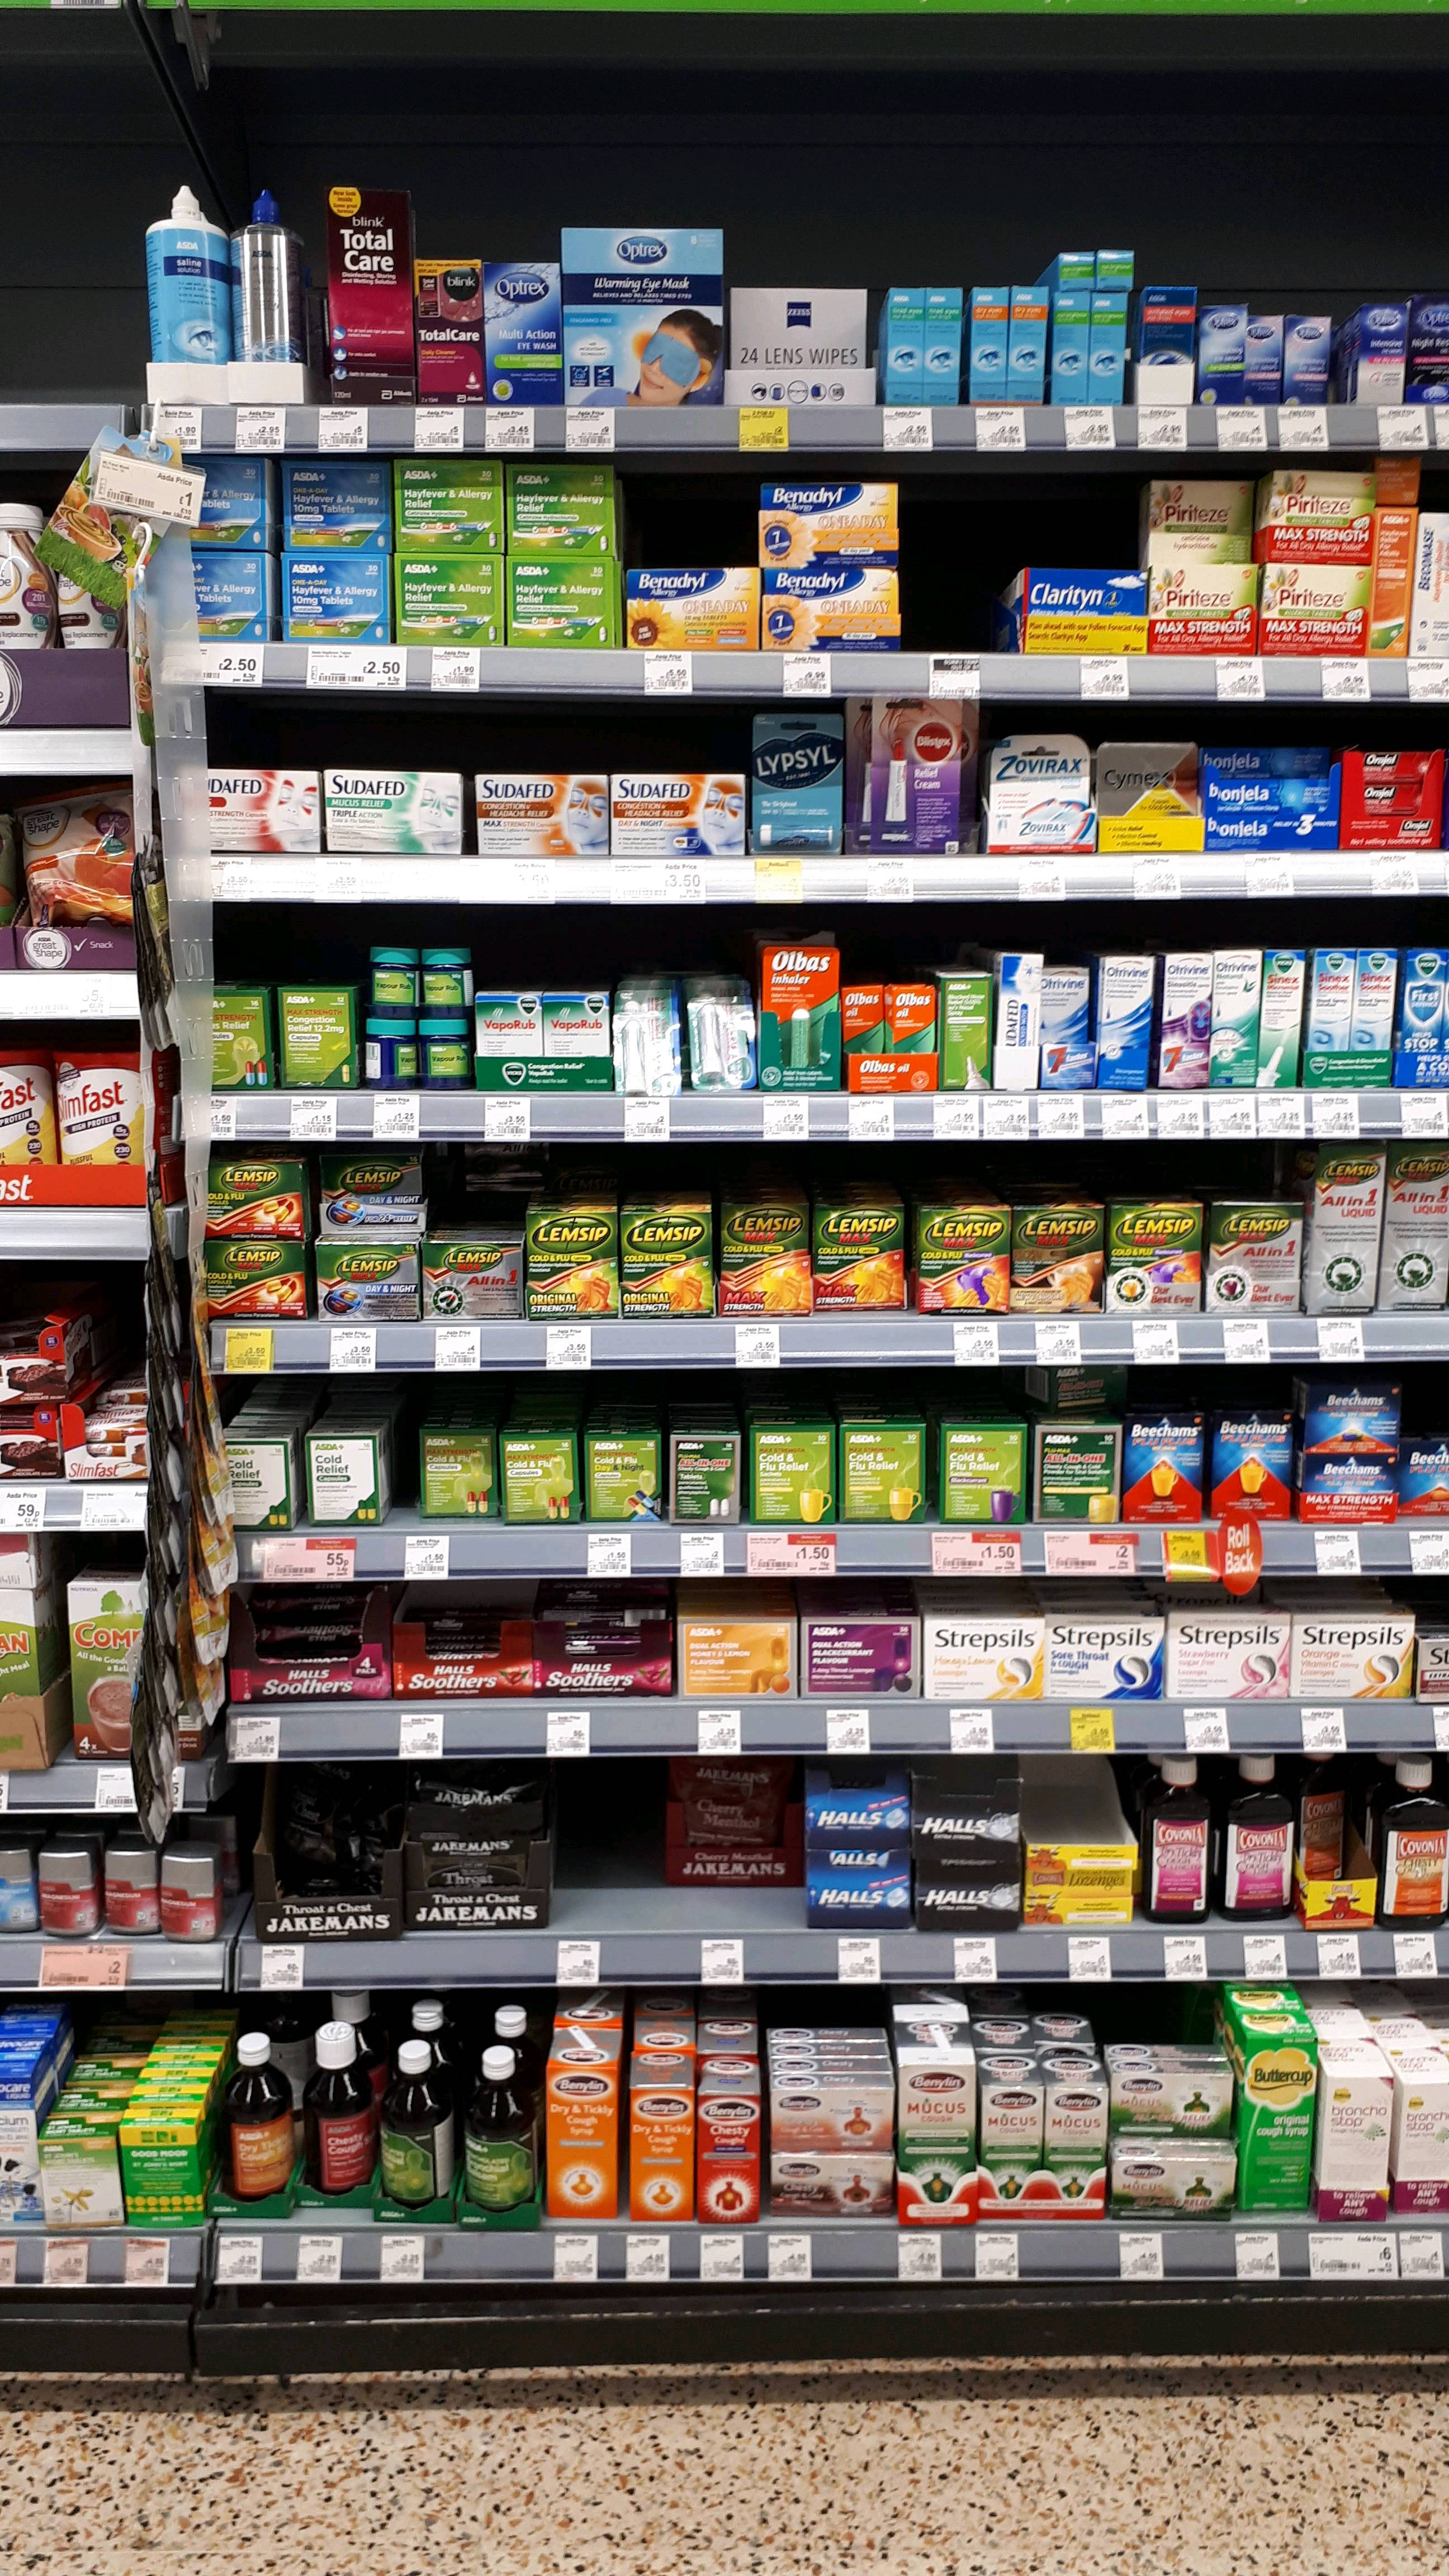Misplacement: (667, 1755, 807, 1928)
Out-of-stock: (902, 476, 1021, 653)
